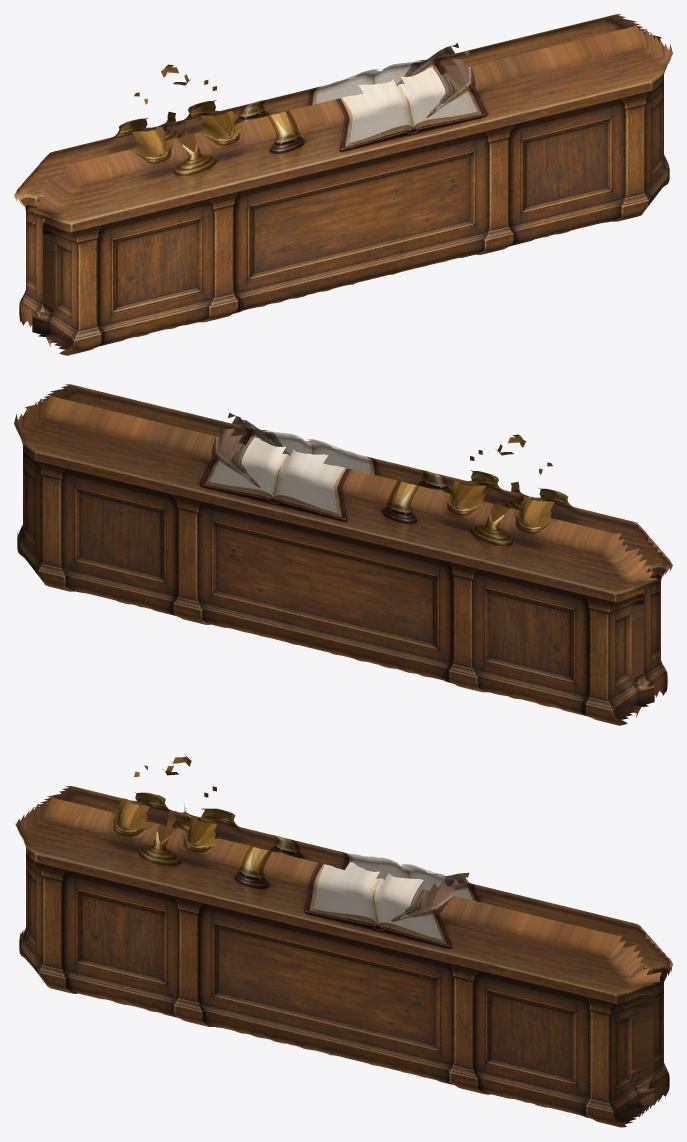
File: v4-general-store-scatter-counter.glb
3 views of the same model, one above another, from view 1: azimuth 30°, elevation 25°; view 2: azimuth 150°, elevation 25°; view 3: azimuth 330°, elevation 25° (orthographic).
Parts seen in each view (by area): view 1: v4-general-store-scatter-counter; view 2: v4-general-store-scatter-counter; view 3: v4-general-store-scatter-counter.
Part boxes in pixels (box(x1,y1,x2,y2)): v4-general-store-scatter-counter: box(14, 14, 672, 355); v4-general-store-scatter-counter: box(14, 384, 672, 725); v4-general-store-scatter-counter: box(14, 755, 672, 1127).
Bounding box in the file's own units: 2.52 × 0.9365 × 0.24.
Materials: 1 (1 with a texture image).
